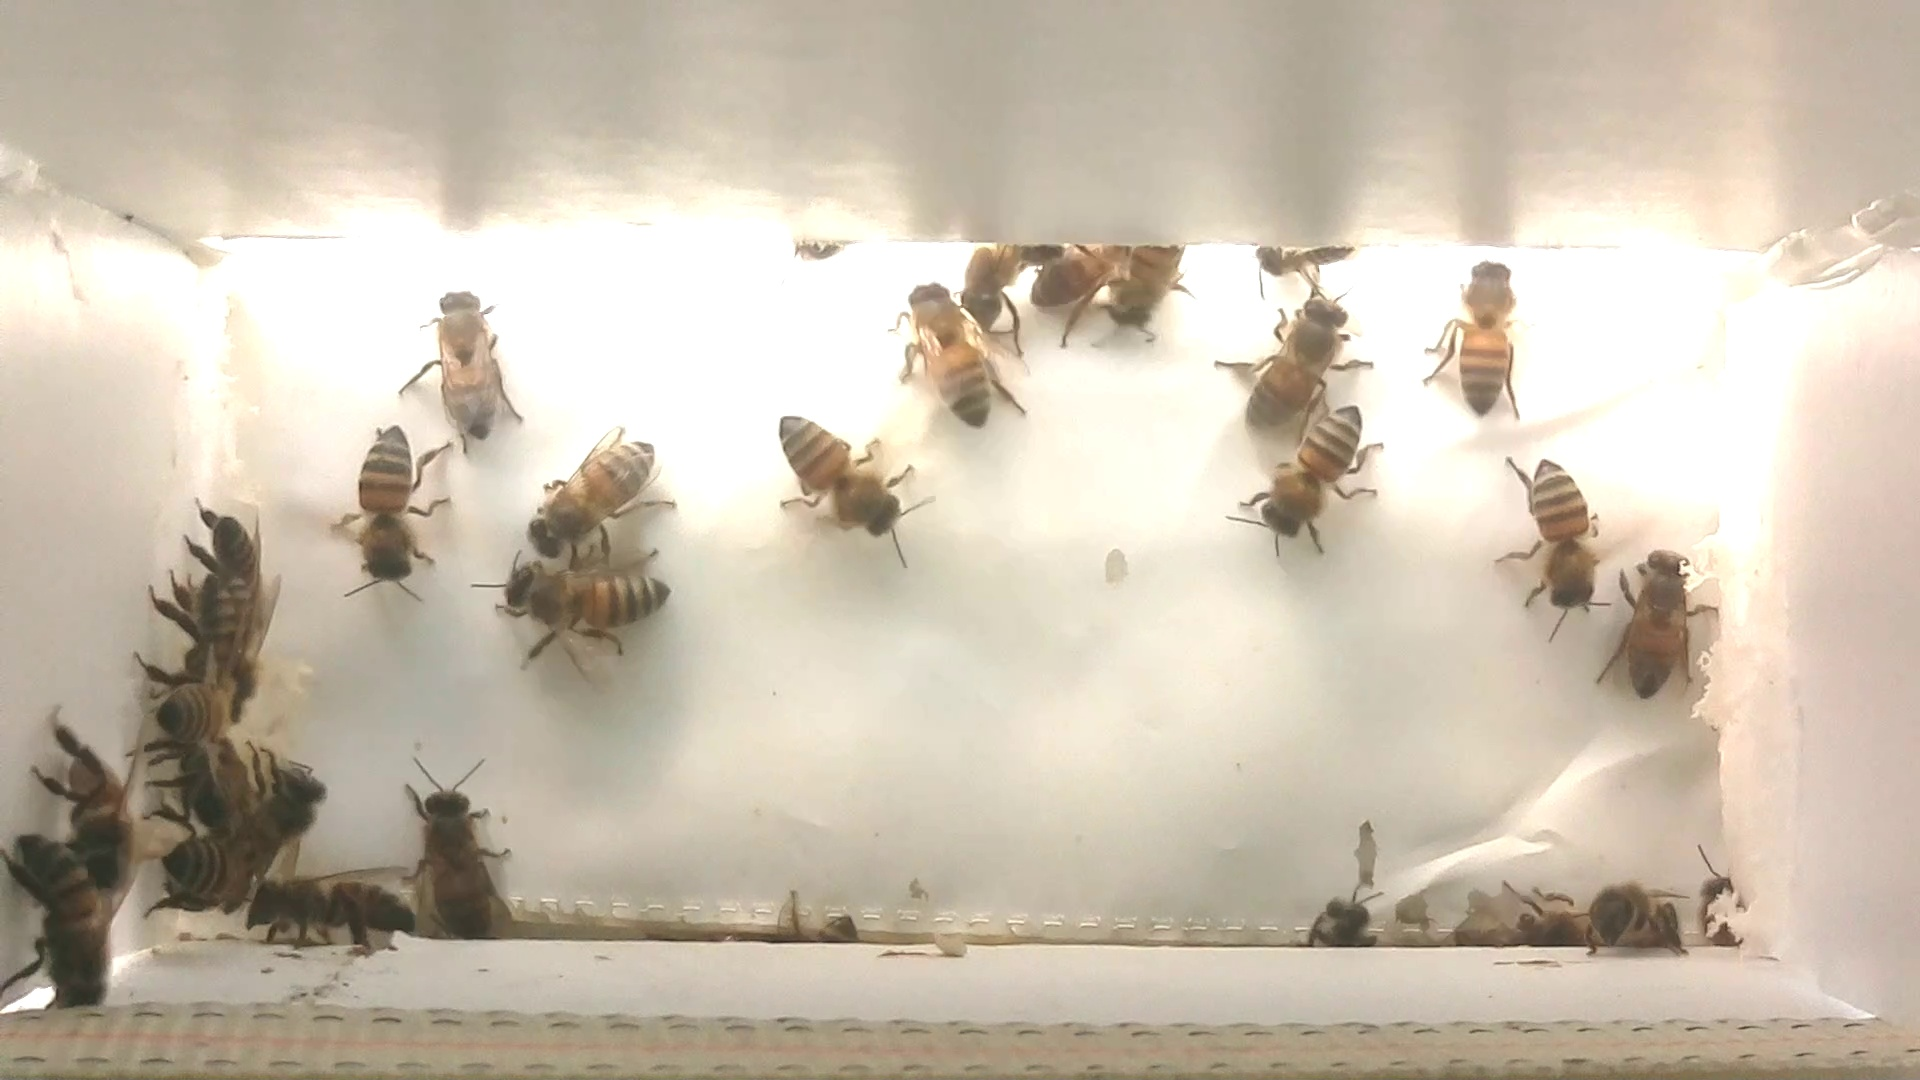bee: (749, 396, 948, 575), (1229, 368, 1393, 564), (504, 398, 686, 568), (318, 410, 458, 608), (483, 549, 686, 684), (1211, 270, 1370, 440), (1594, 527, 1730, 716), (884, 272, 1034, 440), (392, 752, 521, 945), (1490, 446, 1625, 628), (396, 270, 530, 450), (1420, 251, 1539, 429), (40, 716, 148, 909), (1, 827, 113, 1005), (228, 858, 419, 955), (105, 634, 247, 761), (149, 568, 260, 724), (179, 500, 294, 649), (1021, 210, 1135, 357), (1571, 860, 1698, 973), (1093, 222, 1193, 365), (944, 225, 1048, 361), (236, 738, 330, 880), (145, 804, 237, 930), (1299, 886, 1400, 967), (1233, 233, 1366, 290)
